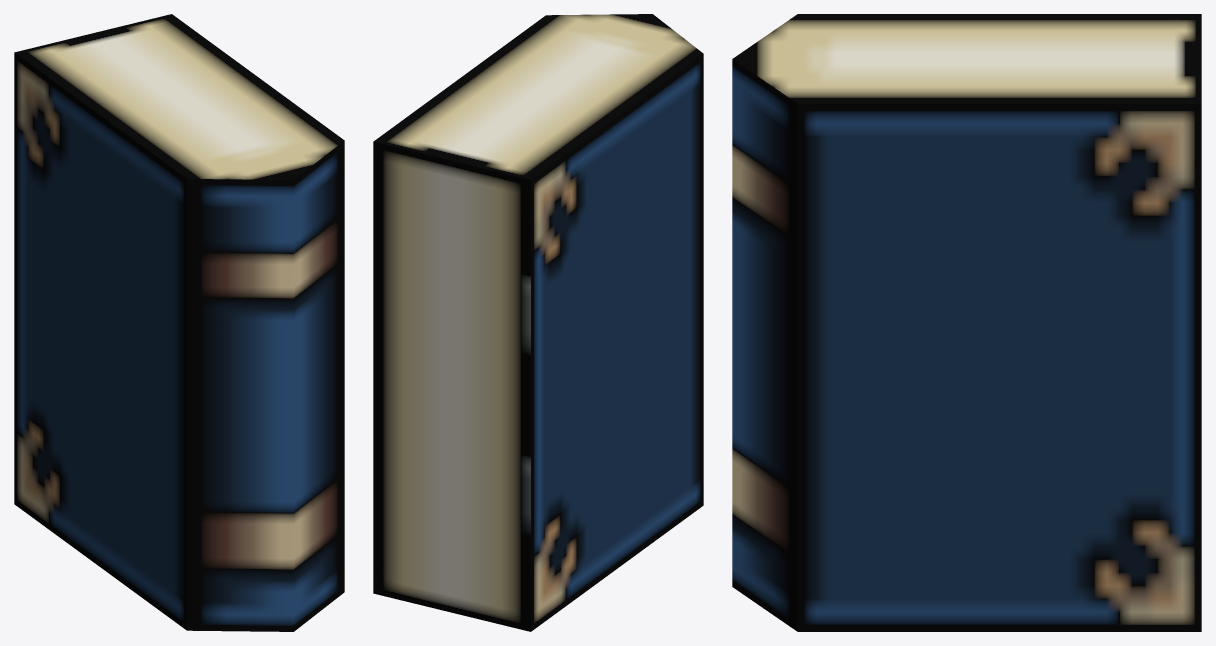
File: deco_cathedral_book_E.FBX
The picture shows the model from 3 angles, left to right: view 1: azimuth 30°, elevation 25°; view 2: azimuth 150°, elevation 25°; view 3: azimuth 270°, elevation 25°; orthographic projection. The views are drawn at different scales.
Visible parts, largest first — view 1: deco_cathedral_book_E; view 2: deco_cathedral_book_E; view 3: deco_cathedral_book_E.
Boxes of the visible parts, left/top/right/bottom form: deco_cathedral_book_E: left=14, top=14, right=344, bottom=631; deco_cathedral_book_E: left=373, top=14, right=703, bottom=631; deco_cathedral_book_E: left=732, top=14, right=1201, bottom=631.
Bounding box in the file's own units: 0.3648 × 1 × 0.8048.
Materials: 1 (1 with a texture image).
